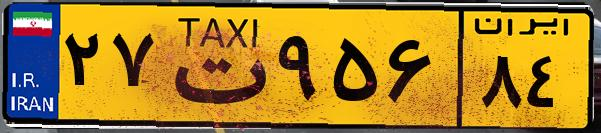2: (57, 26, 110, 100)
4: (525, 38, 570, 115)
5: (330, 28, 385, 110)
6: (385, 28, 445, 110)
7: (110, 28, 158, 98)
8: (475, 38, 525, 113)
9: (270, 28, 330, 110)
ت: (158, 12, 270, 120)
